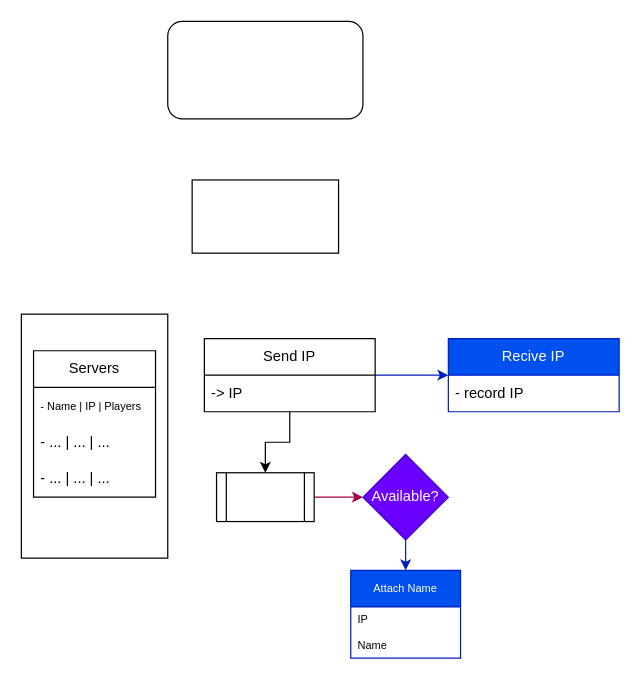
The diagram is 641 pixels wide and 680 high, and some of its shapes have lost their labels. Each missing label, with the centre of its shape:
"Enter Name" belongs at point (264, 497).
"Menu" belongs at point (265, 69).
"Server Select" belongs at point (265, 216).
